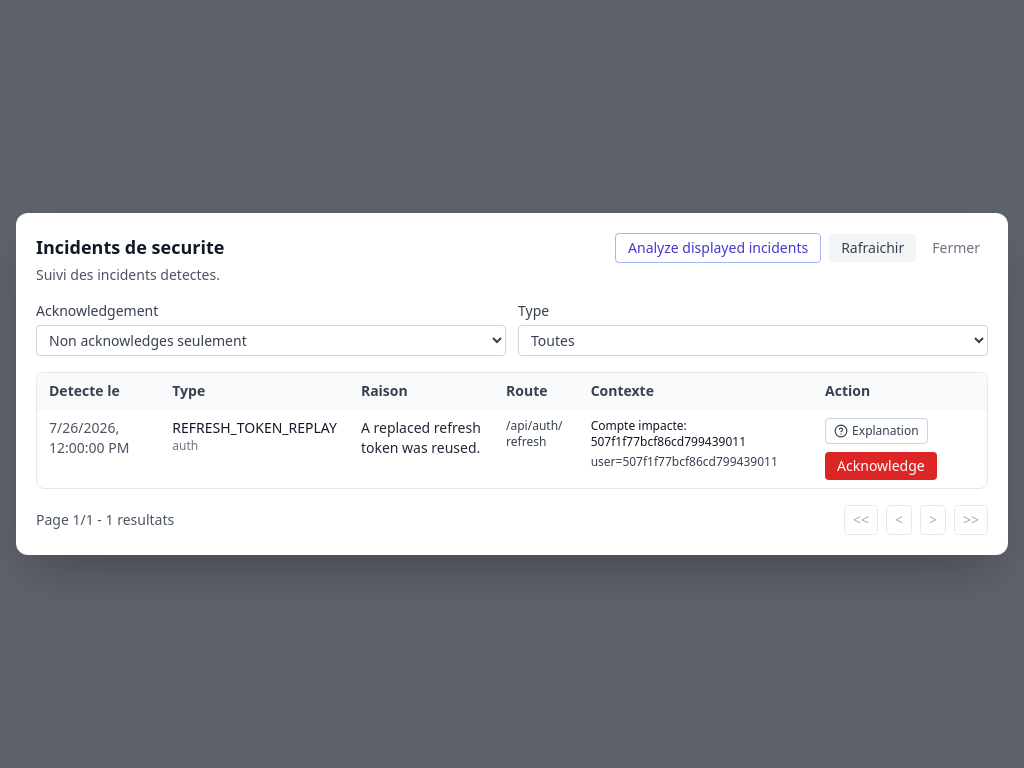
it: SecurityIncidentsModal › offers a dedicated explanation for refresh token replay
The image size is (1024, 768).
What coordinates should you click on to do the following:
click the button "Explanation"
I would click on:
 (876, 431)
Its box is [825,418,928,444].
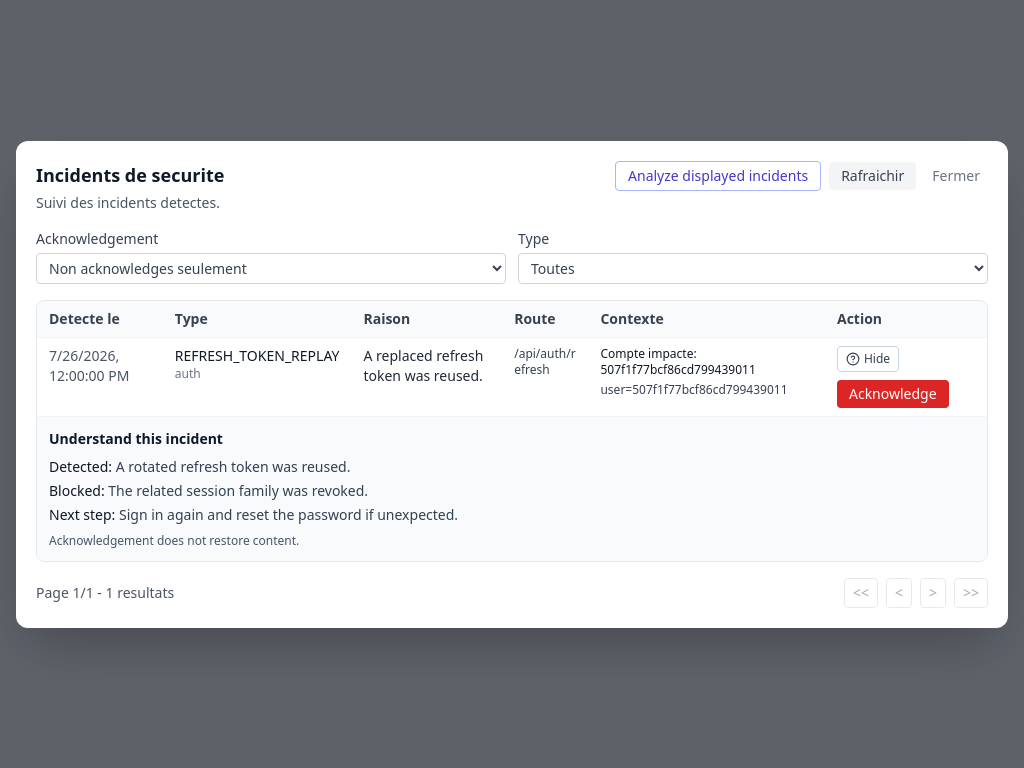
expect the text "A rotated refresh token was reused." is shown: met, box [116,456,350,476]
expect the text "The related session family was revoked." is shown: met, box [108,480,368,500]
expect the text "Sign in again and reset the password if unexpected." is shown: met, box [119,504,458,524]
